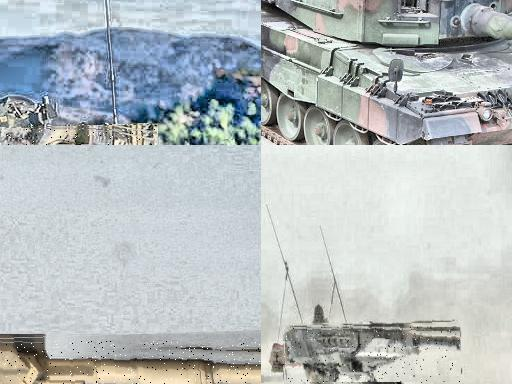tanks: (262, 1, 512, 146), (1, 343, 262, 384), (285, 328, 461, 384), (1, 131, 158, 146), (262, 375, 265, 383)
